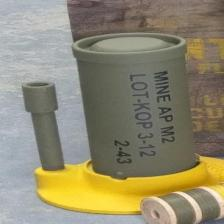M2A1: (19, 25, 224, 224)
